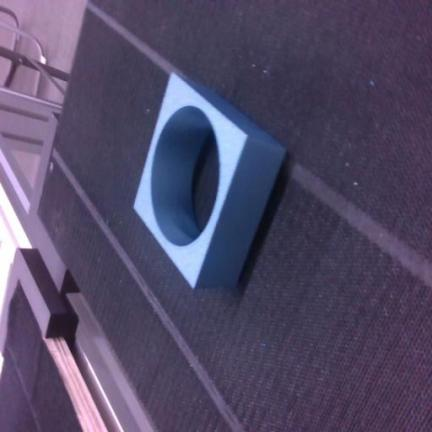square: (134, 73, 284, 287)
